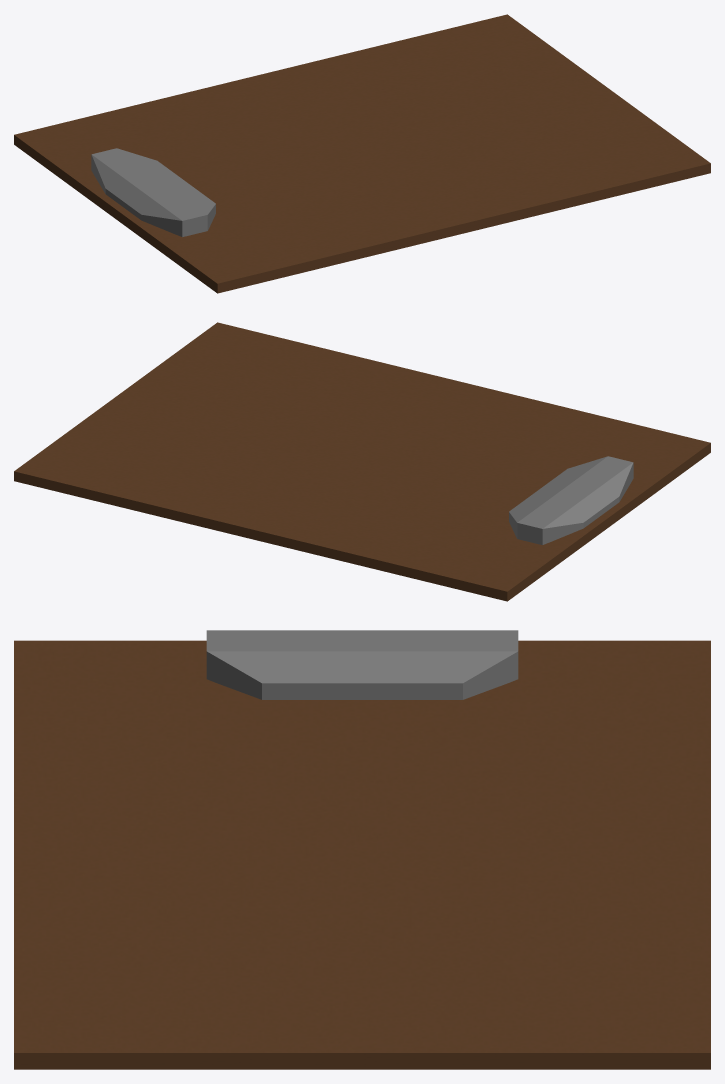
Rendered from Clipboard.glb.
The picture shows the model from 3 angles, top to bottom: view 1: azimuth 30°, elevation 25°; view 2: azimuth 150°, elevation 25°; view 3: azimuth 270°, elevation 25°; orthographic projection. The views are drawn at different scales.
Parts seen in each view (by area): view 1: Cube, Cube.001; view 2: Cube, Cube.001; view 3: Cube, Cube.001.
Part boxes in pixels (<box>): Cube: <box>14,14,710,293</box>; Cube.001: <box>91,148,215,236</box>; Cube: <box>14,322,710,601</box>; Cube.001: <box>509,456,633,544</box>; Cube: <box>14,640,710,1069</box>; Cube.001: <box>206,630,518,699</box>.
Bounding box in the file's own units: 7 × 0.3561 × 5.
Materials: 2 (1 with a texture image).
